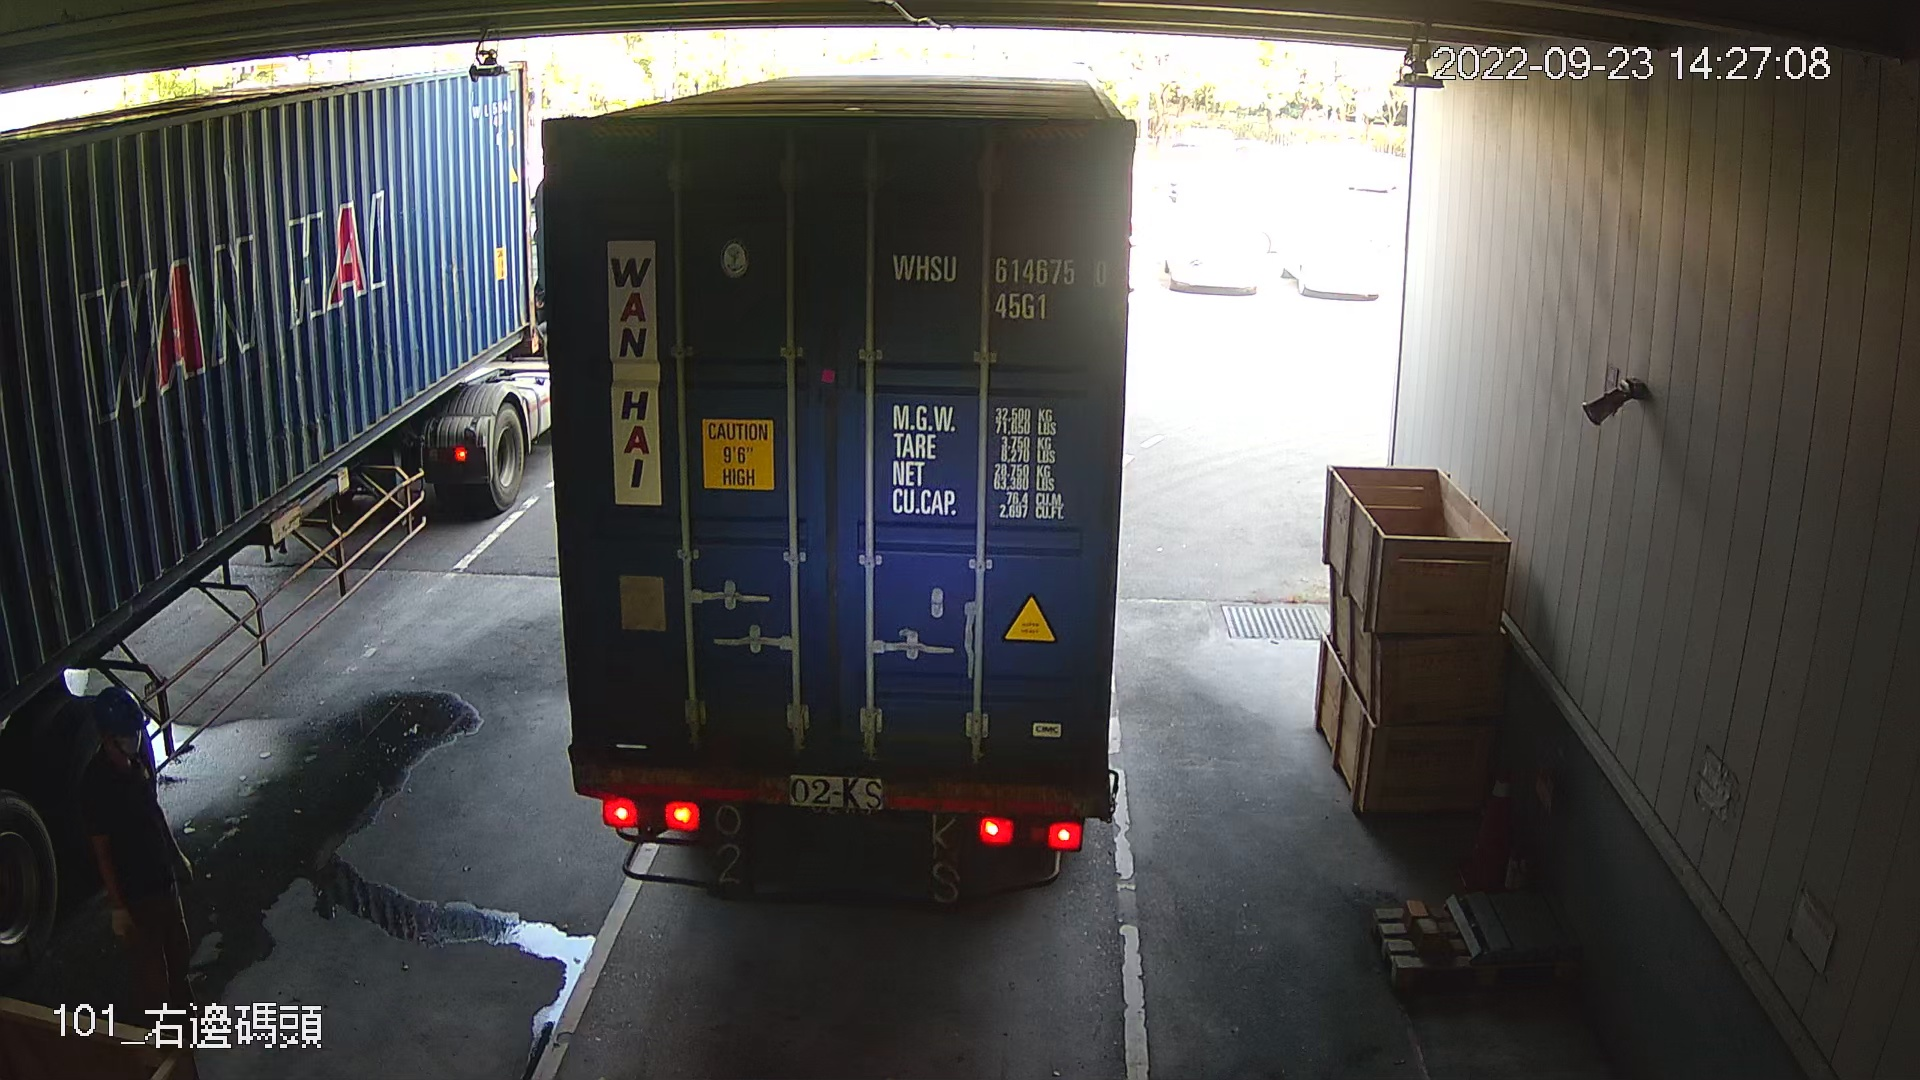container: (881, 239, 1114, 326)
